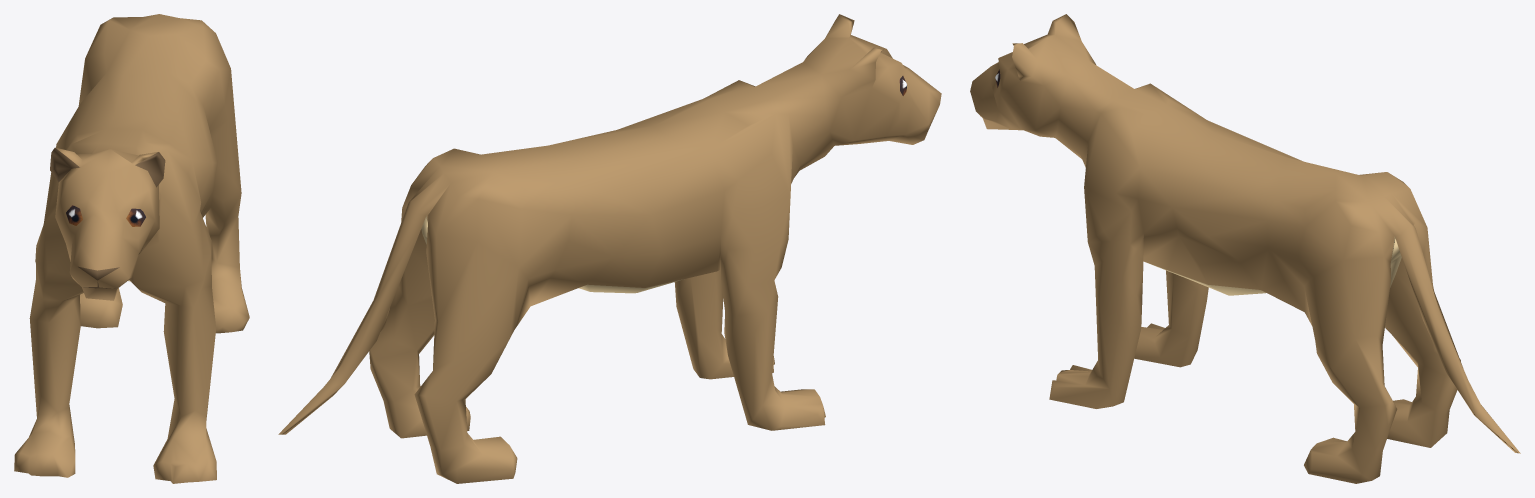
The model's file is LionFemale.glb.
3 renders of one model, left to right at view 1: azimuth 30°, elevation 25°; view 2: azimuth 150°, elevation 25°; view 3: azimuth 270°, elevation 25°, orthographic. The views are drawn at different scales.
Visible parts, largest first — view 1: LionFemale; view 2: LionFemale; view 3: LionFemale.
Part boxes in pixels (x1=…): LionFemale: x1=14, y1=14, x2=249, y2=483; LionFemale: x1=278, y1=14, x2=941, y2=483; LionFemale: x1=970, y1=14, x2=1520, y2=483.
Size of what is drawn, in the model's own units: 1.56 by 1.35 by 2.1.
1 material, 1 textured.
